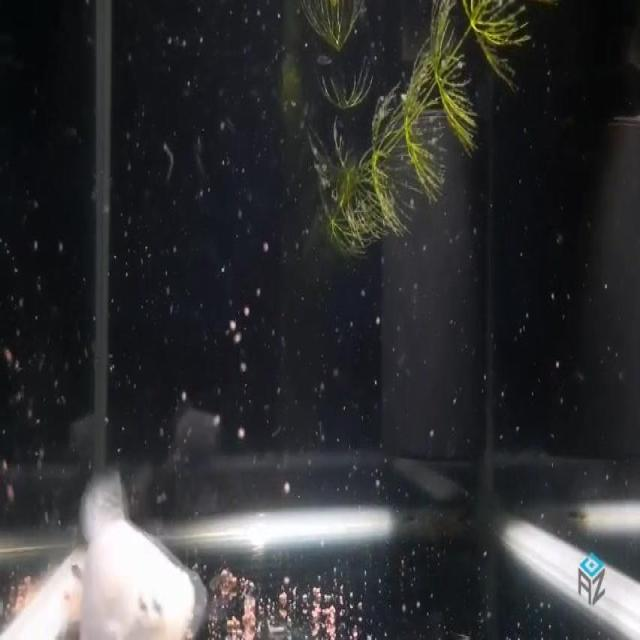PlatyFish: (0, 462, 233, 640)
